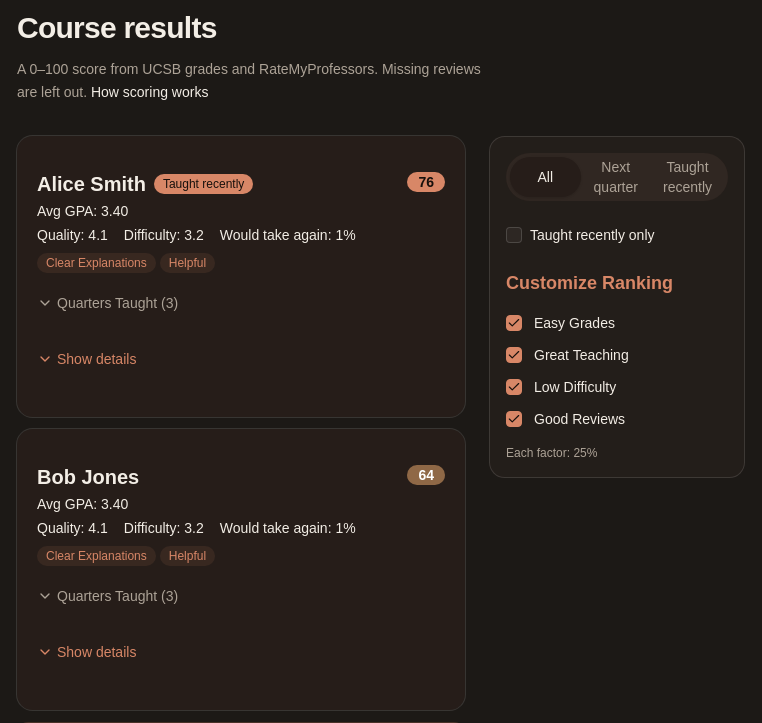
CoursePage - Active Teacher Filter › checking filter hides inactive professor
This screenshot has width=762, height=723.
Expected: the heading "Alice Smith" is shown, [37,172,146,196]
Expected: the heading "Bob Jones" is shown, [37,464,139,490]
Click the checkbox named "taught recently only" next to "Taught recently only" at (514, 234), box [506,226,522,242]
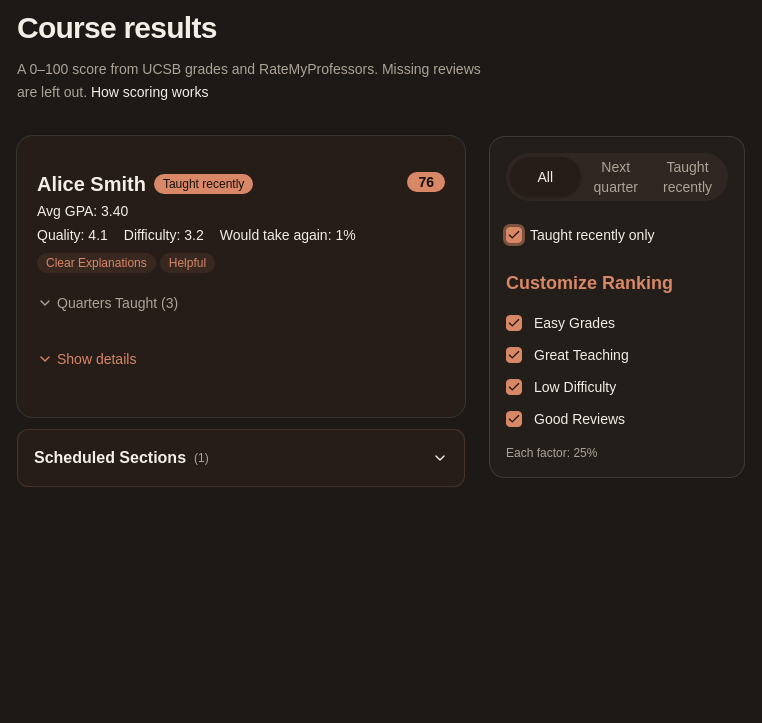
Expected: the heading "Alice Smith" is shown, [37,172,146,196]
Now the heading "Bob Jones" is gone
